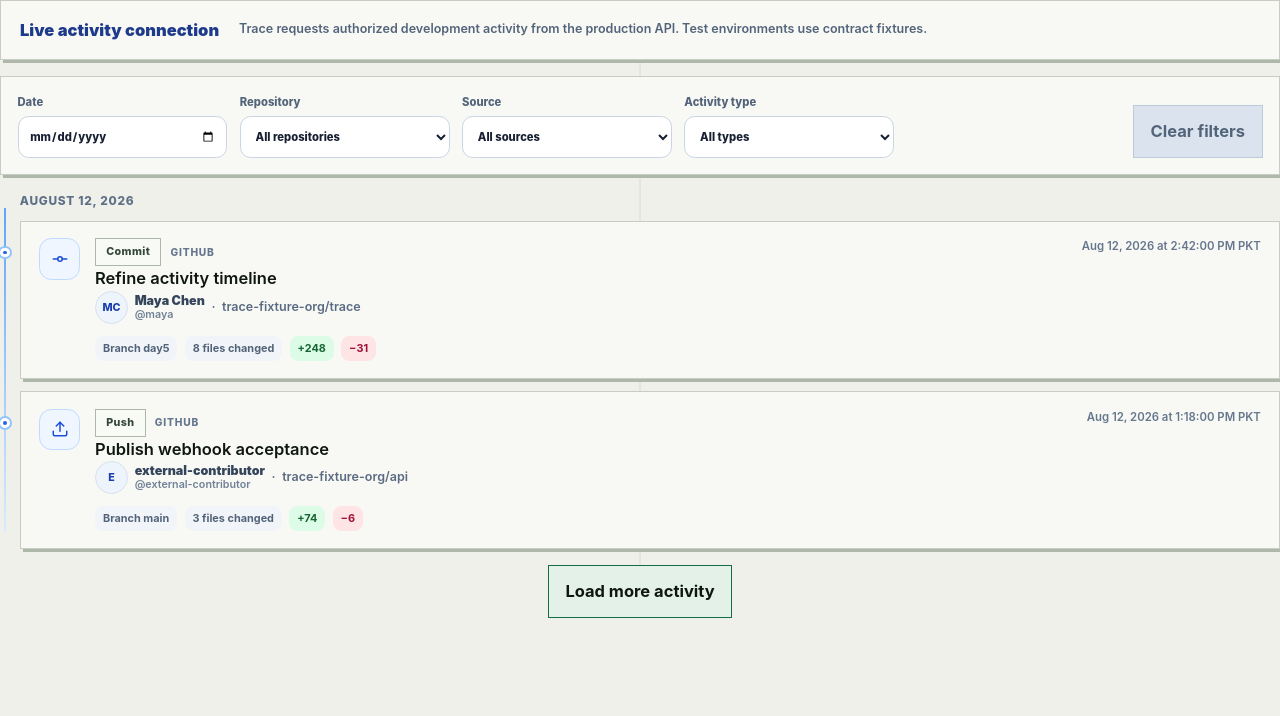
Test: Day 5 activity experience › appends cursor pages without duplicate activities
Expected: the heading "Refine activity timeline" is shown, [95,268,277,288]
Step 1. Click the button "Load more activity" → click(640, 592), box [548,565,732,618]
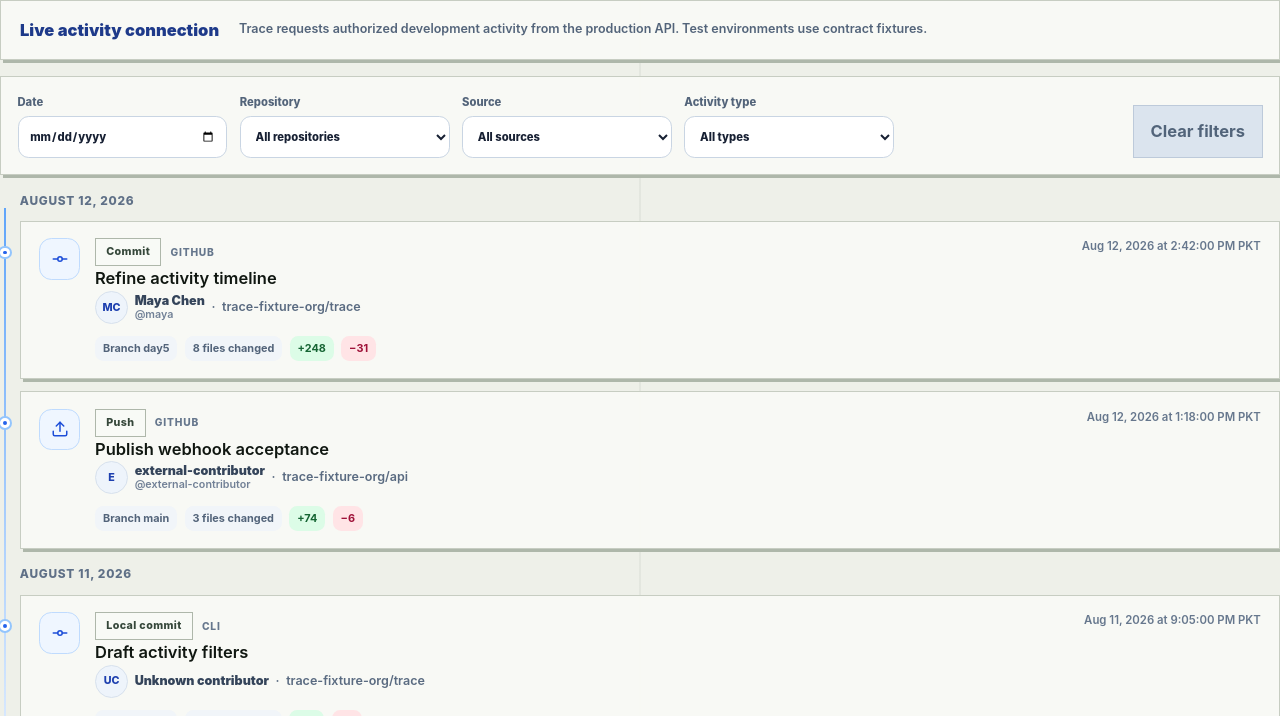
Expected: the number of headings "Publish webhook acceptance" is 1, [95,439,329,459]
Now the heading "Draft activity filters" is shown, box [95,642,248,662]
